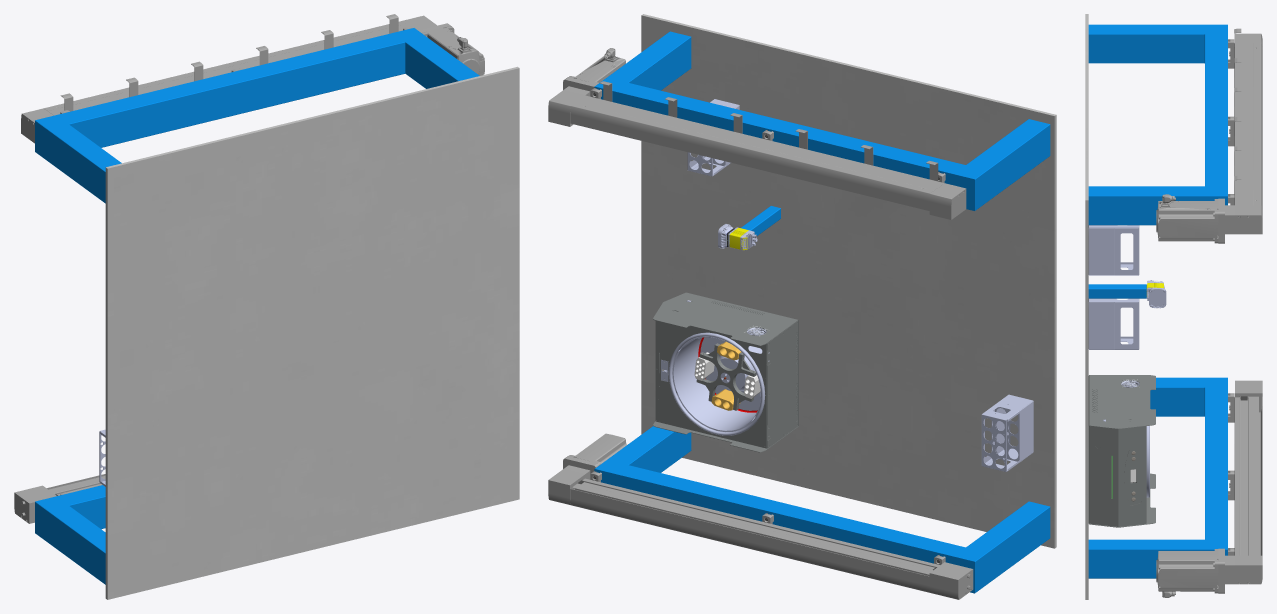
3 renders of one model, left to right at view 1: azimuth 30°, elevation 25°; view 2: azimuth 150°, elevation 25°; view 3: azimuth 270°, elevation 25°, orthographic. The views are drawn at different scales.
Parts seen in each view (by area): view 1: base.IGS.057, base.IGS; view 2: base.IGS.057, base.IGS; view 3: base.IGS, base.IGS.057.
Boxes of the visible parts, x1,y1,x2,y2 form: base.IGS.057: (105, 66, 519, 599); base.IGS: (14, 14, 484, 584); base.IGS.057: (641, 14, 1056, 548); base.IGS: (548, 31, 1050, 599); base.IGS: (1088, 24, 1262, 597); base.IGS.057: (1085, 14, 1088, 599).
Size of the model in its own units: 1.92 by 1.92 by 0.7641.
Materials: 2 (2 with a texture image).
